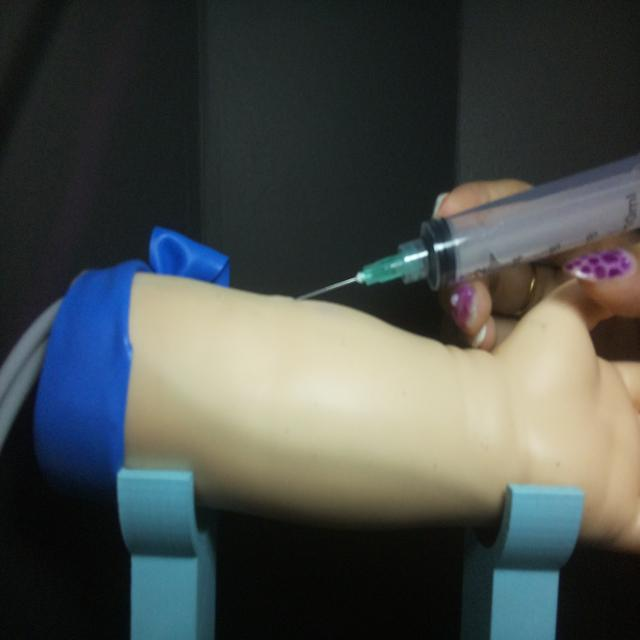17deg: (292, 150, 640, 302)
